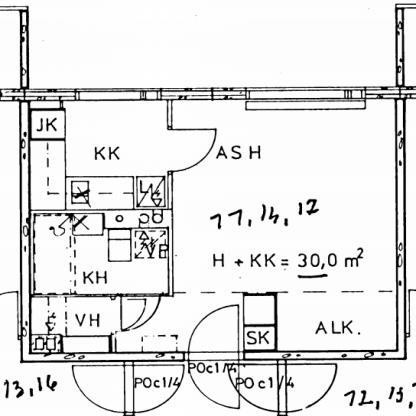bathroom: (28, 212, 170, 296)
door: (223, 361, 347, 416), (69, 362, 192, 416), (185, 302, 244, 412), (162, 125, 221, 178), (187, 301, 244, 355), (117, 290, 168, 332)
perimeter: (24, 94, 401, 358)
window: (238, 84, 370, 115), (69, 85, 168, 104)
